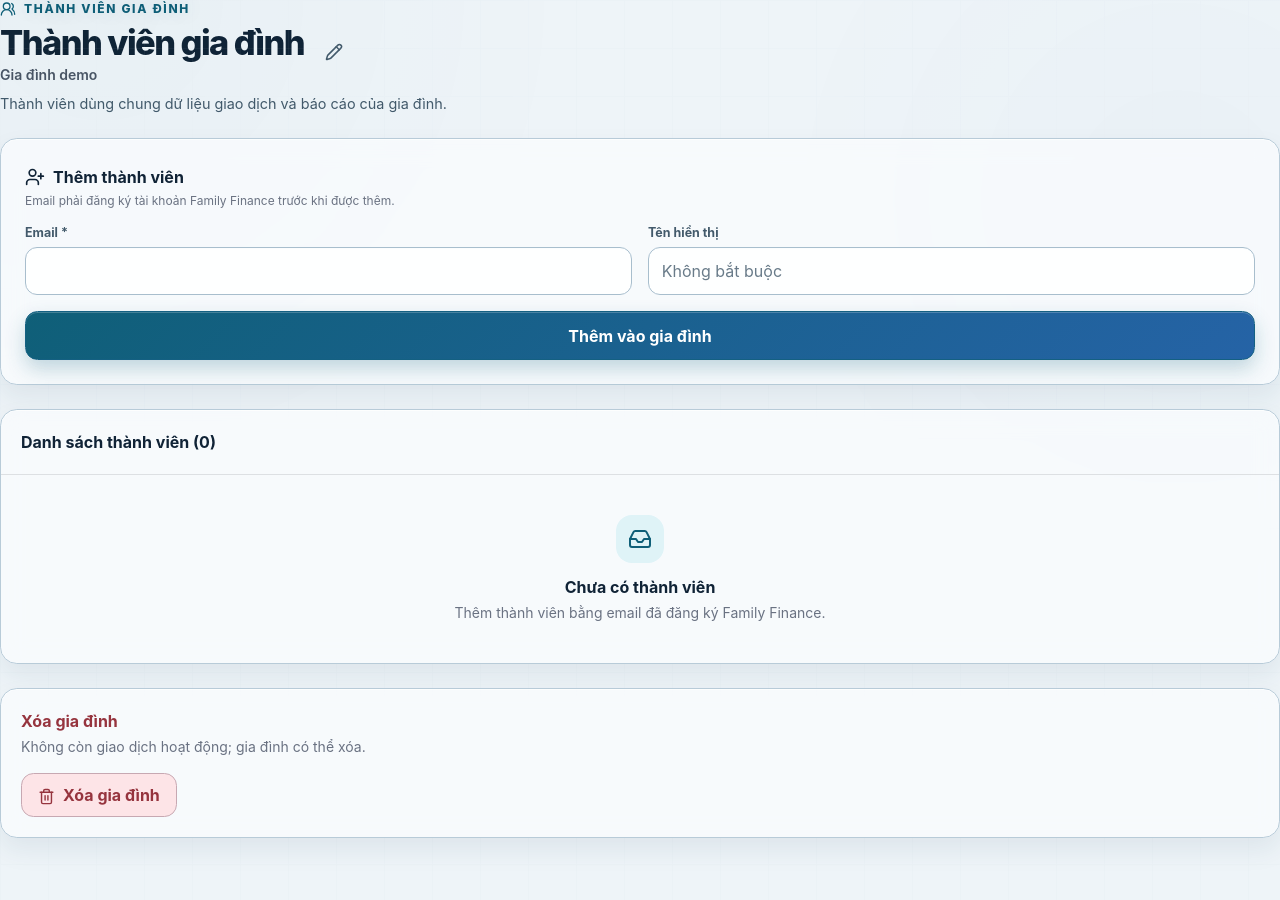
Test: Members › cho phép xóa gia đình trong chế độ demo khi không còn giao dịch hoạt động
The image size is (1280, 900).
Click the button "Xóa gia đình" at {"x": 99, "y": 795}, box [21,773,177,817]
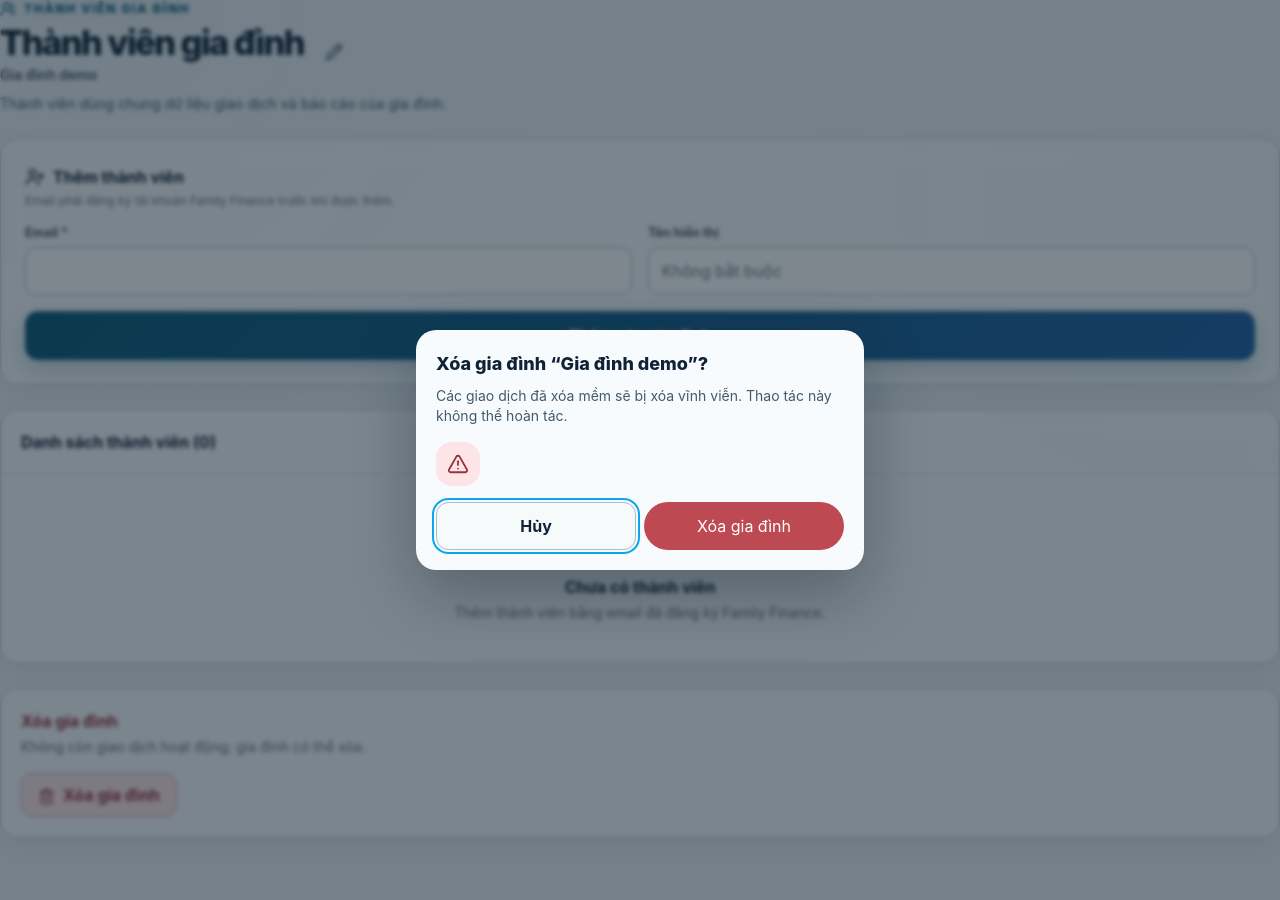
Click the button "Xóa gia đình" at {"x": 744, "y": 526}, box [644,502,844,550]
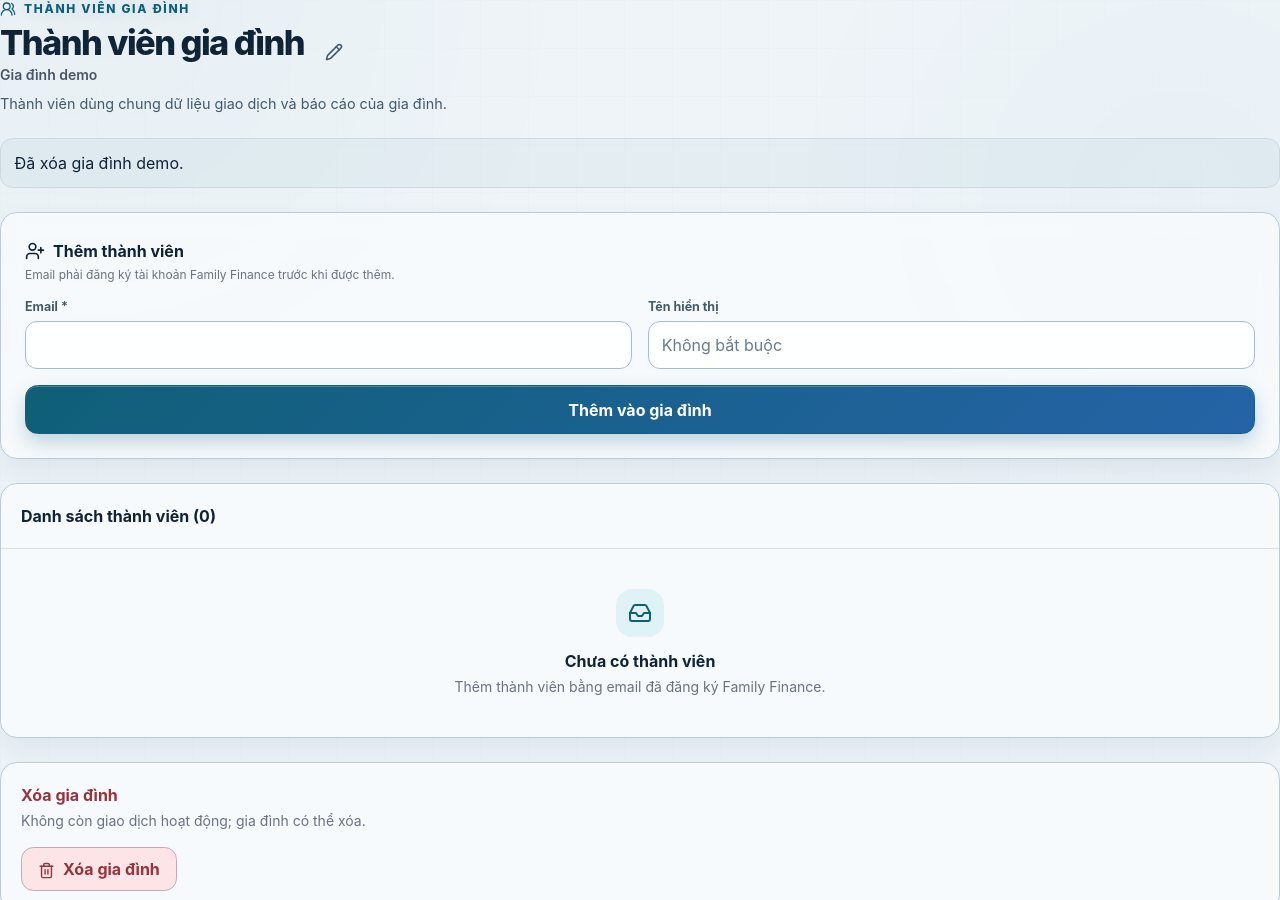
Now the message "Đã xóa gia đình demo." is shown, box [0,138,1279,188]
